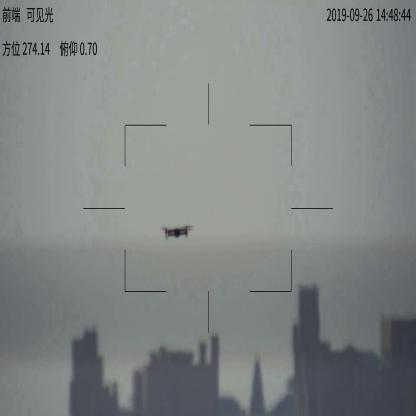uav: (161, 222, 193, 239)
